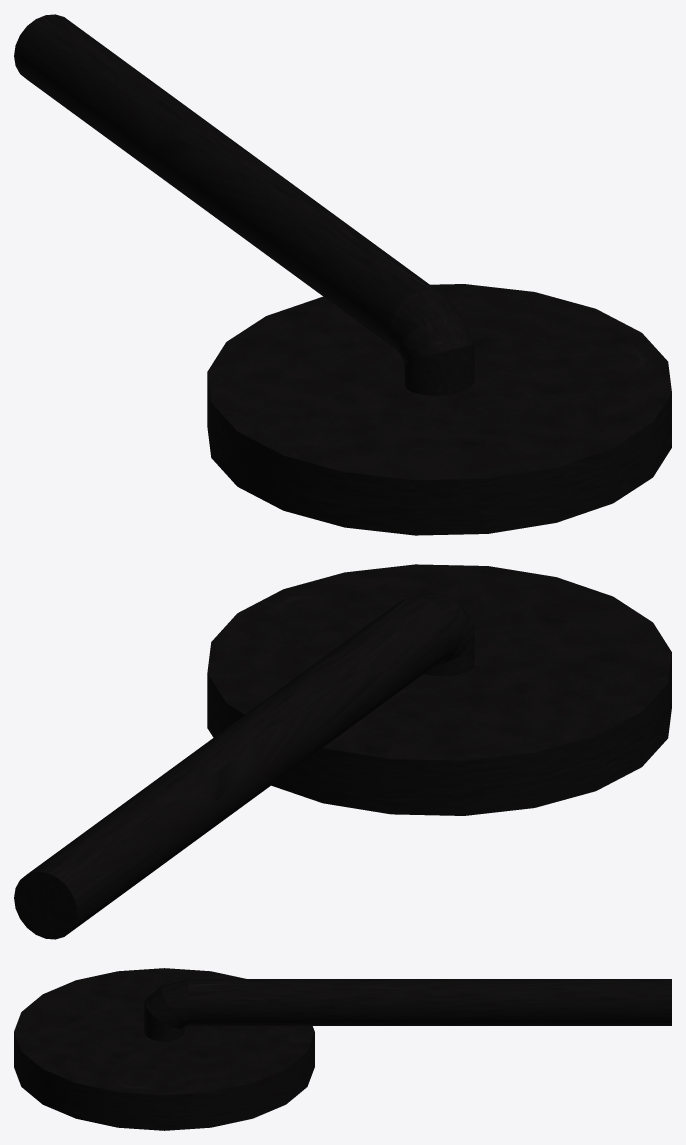
The model's file is Shower.fbx.
3 renders of one model, top to bottom at view 1: azimuth 30°, elevation 25°; view 2: azimuth 150°, elevation 25°; view 3: azimuth 270°, elevation 25°, orthographic. The views are drawn at different scales.
Parts seen in each view (by area): view 1: pCylinder2, pCylinder1; view 2: pCylinder2, pCylinder1; view 3: pCylinder2, pCylinder1.
Part boxes in pixels (x1,y1,x2,y2): pCylinder2: (207, 284, 671, 535); pCylinder1: (14, 14, 474, 395); pCylinder2: (207, 564, 671, 815); pCylinder1: (14, 592, 474, 939); pCylinder2: (14, 968, 314, 1130); pCylinder1: (144, 979, 671, 1041).
Size of the model in its own units: 0.5752 by 0.1817 by 1.26.
Materials: 1 (1 with a texture image).
